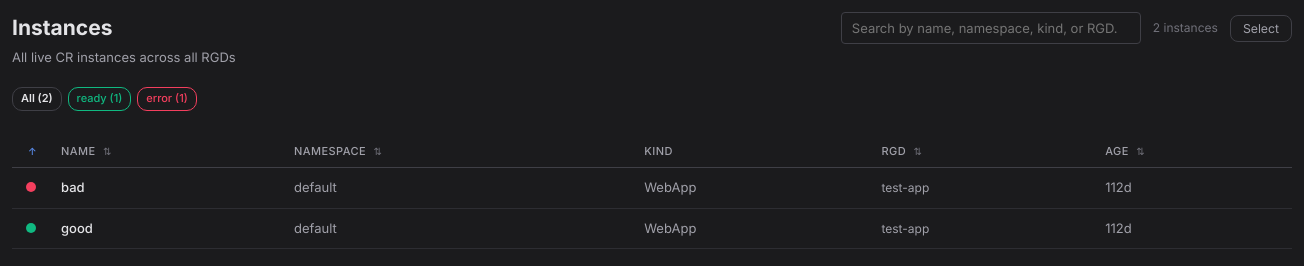
Scenario: InstancesPage › All chip restores full list
Check: the table with test id "instances-table" is shown, box x1=12 y1=135 x2=1292 y2=249
What coordinates should you click on to do the following:
click the button with test id "instances-health-chip-error"
I would click on:
 (167, 99)
Its box is x1=137 y1=87 x2=197 y2=111.
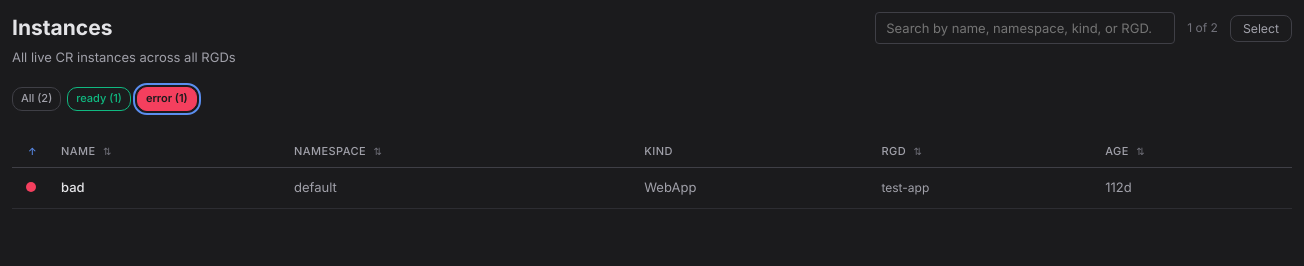
Check: the number of rows with test id "instances-row" is 1, box x1=12 y1=168 x2=1292 y2=208
What coordinates should you click on to do the following:
click the button with test id "instances-health-chip-all"
I would click on:
 (37, 99)
Its box is x1=12 y1=87 x2=61 y2=111.
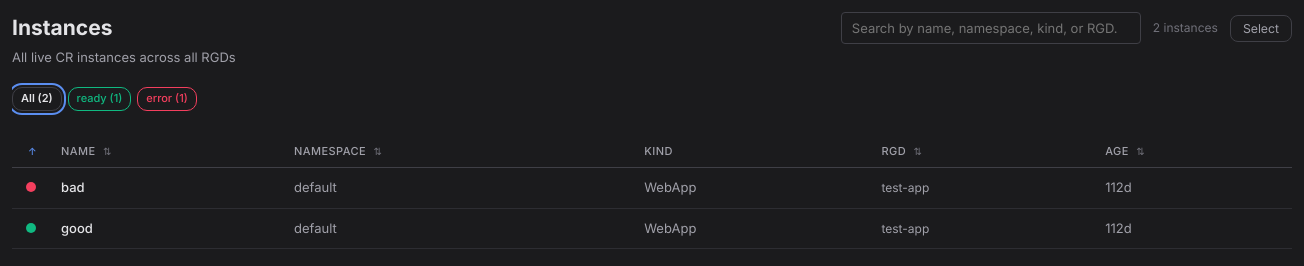
Check: the number of rows with test id "instances-row" is 2, box x1=12 y1=168 x2=1292 y2=208; x1=12 y1=208 x2=1292 y2=249
